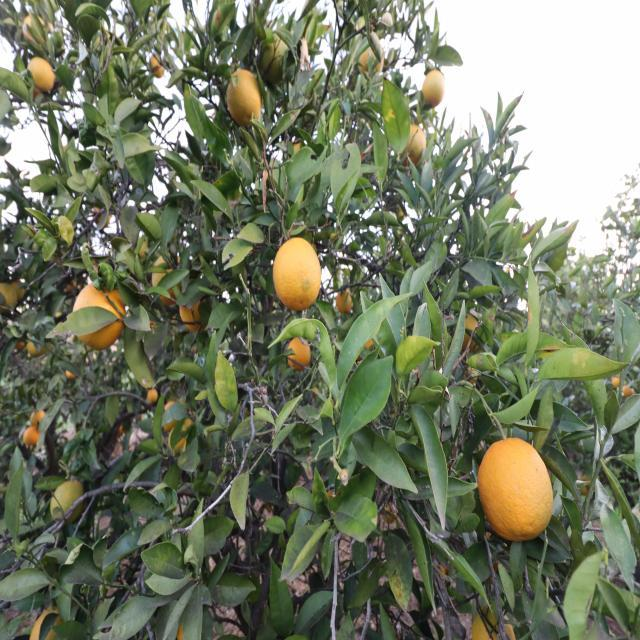Jeruk Belum Matang: (260, 32, 290, 82), (51, 480, 83, 524)
Jeruk Sudah Matang: (477, 438, 557, 544), (75, 284, 126, 351), (273, 238, 319, 308), (228, 70, 262, 128), (154, 256, 182, 304), (401, 123, 426, 165), (28, 56, 54, 92), (359, 40, 384, 76), (423, 68, 446, 106), (181, 300, 208, 330), (288, 338, 311, 370), (168, 427, 188, 453), (162, 402, 177, 428), (23, 427, 41, 448), (336, 291, 353, 313), (30, 411, 44, 428), (148, 388, 158, 406)
